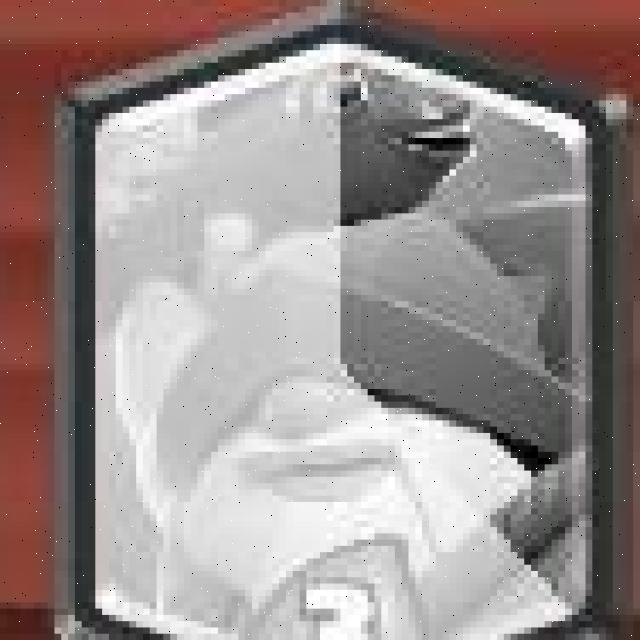Fisherman: (59, 2, 620, 640)
